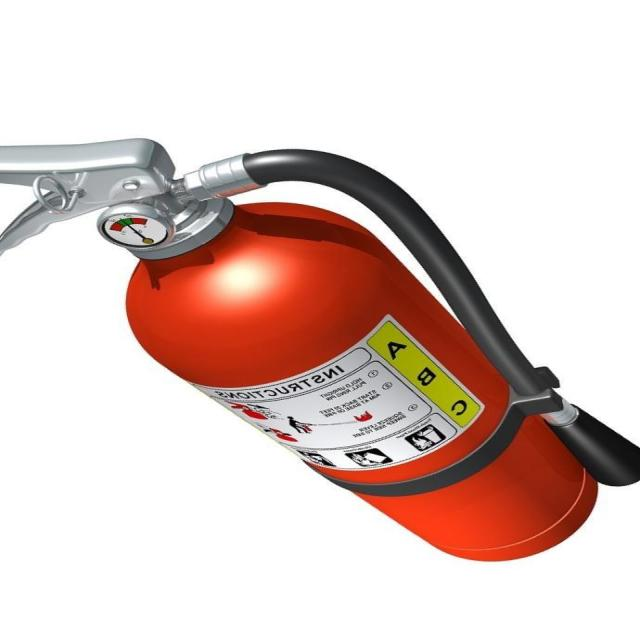fire_extinguisher: (0, 122, 638, 566)
